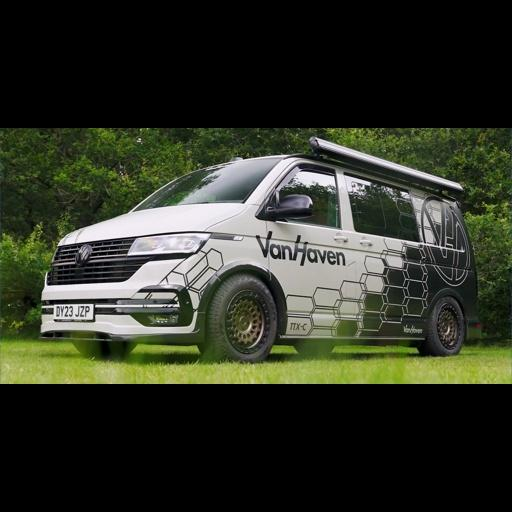van: (41, 137, 479, 361)
